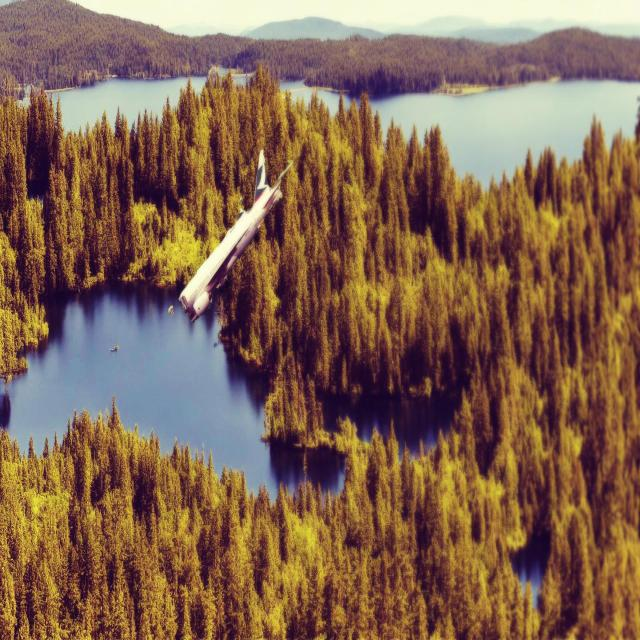airplane: (178, 148, 294, 324)
